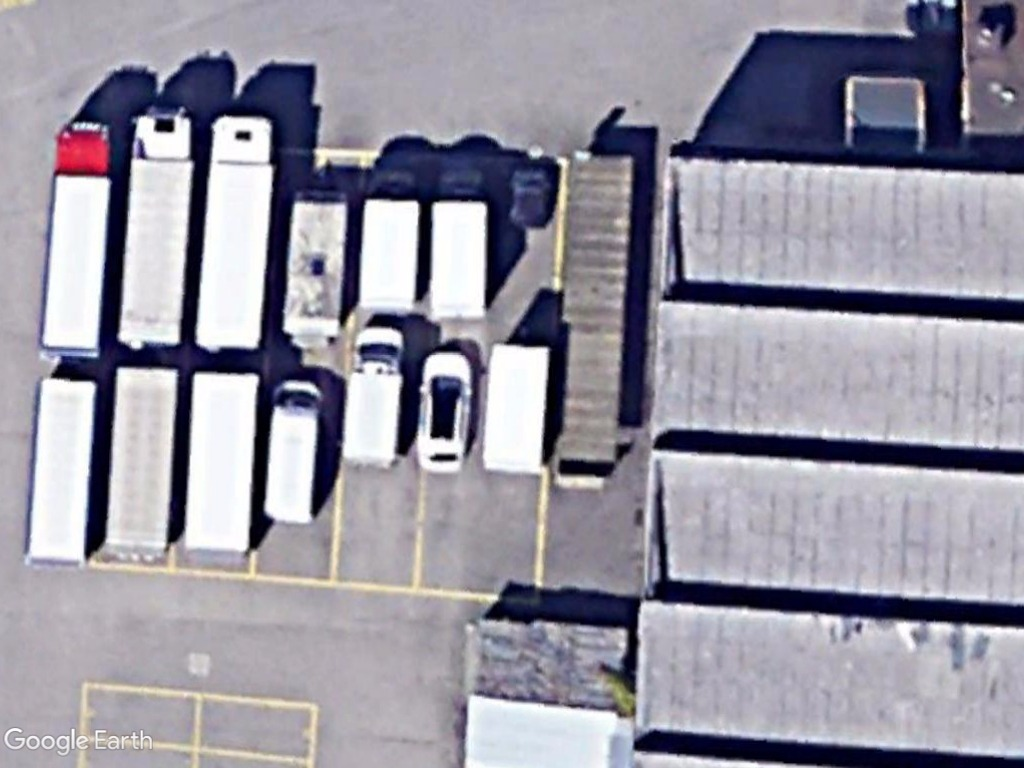car: (412, 349, 473, 478)
truck: (189, 107, 275, 355), (35, 112, 117, 364), (114, 102, 195, 354), (338, 321, 409, 472)
van: (259, 375, 322, 532)
